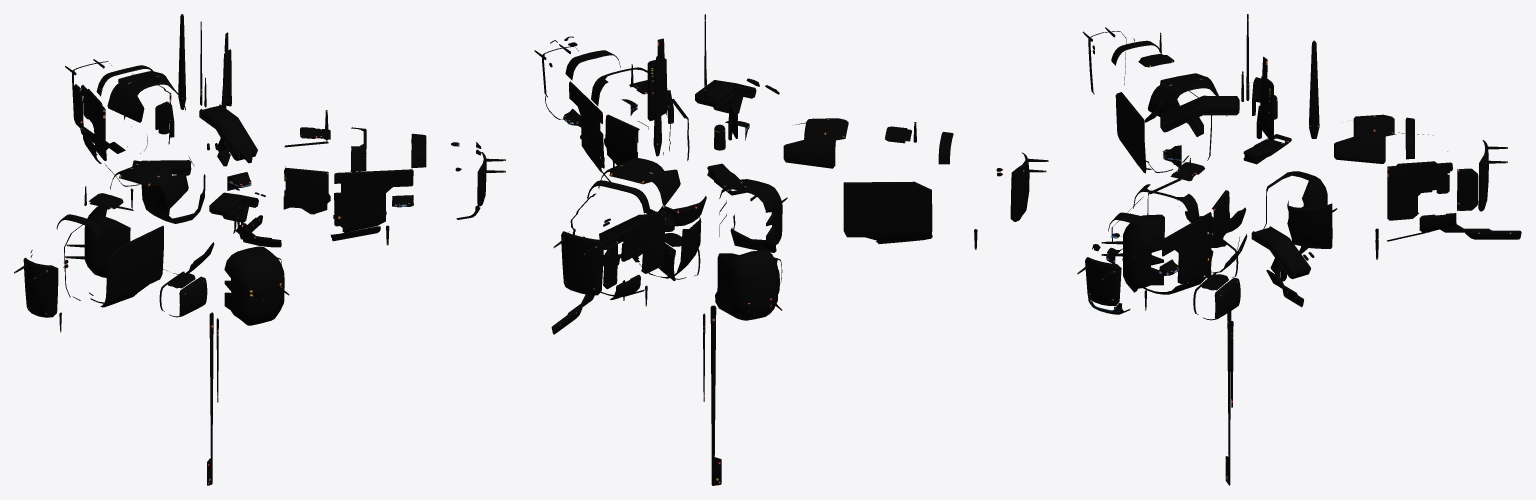
File: yao_st_dock_02.glb
The picture shows the model from 3 angles, left to right: view 1: azimuth 30°, elevation 25°; view 2: azimuth 150°, elevation 25°; view 3: azimuth 270°, elevation 25°; orthographic projection. The views are drawn at different scales.
Visible parts, largest first — view 1: yao_station_02_base_LOD0, yao_station_02_parts_LOD0; view 2: yao_station_02_base_LOD0, yao_station_02_parts_LOD0; view 3: yao_station_02_base_LOD0, yao_station_02_parts_LOD0.
Part boxes in pixels (left/top/right/bottom): yao_station_02_base_LOD0: left=23, top=61, right=486, bottom=325; yao_station_02_parts_LOD0: left=14, top=14, right=505, bottom=485; yao_station_02_base_LOD0: left=542, top=36, right=1029, bottom=320; yao_station_02_parts_LOD0: left=534, top=14, right=1048, bottom=485; yao_station_02_base_LOD0: left=1085, top=31, right=1488, bottom=320; yao_station_02_parts_LOD0: left=1077, top=14, right=1521, bottom=485.
Size of what is drawn, in the model's own units: 81.22 by 72.42 by 61.91.
Materials: 2 (2 with a texture image).
